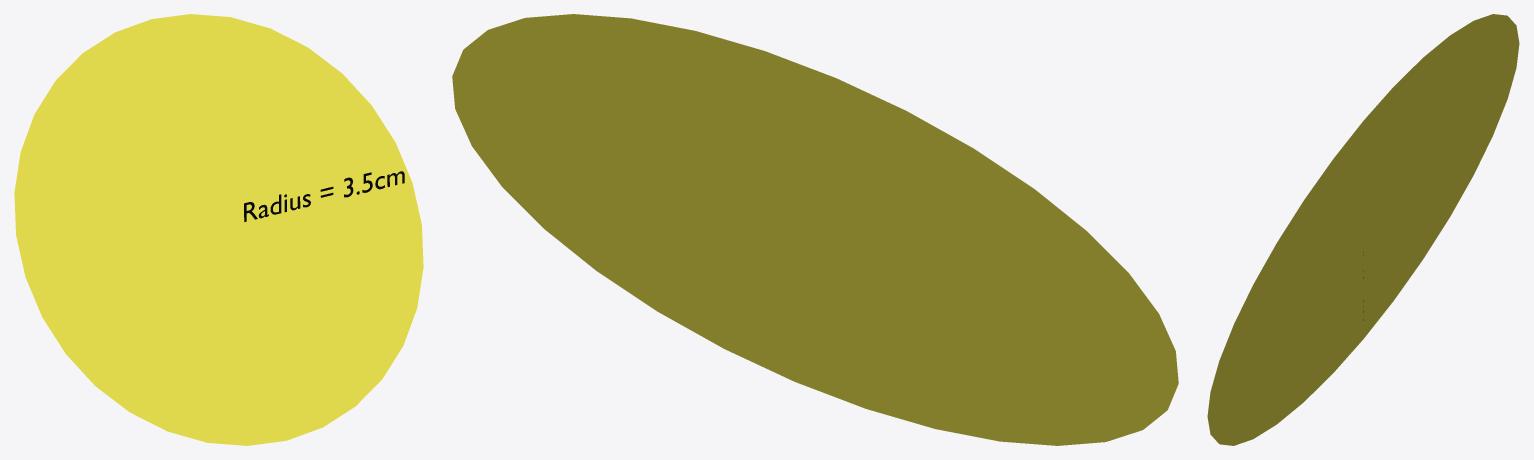
Rendered from circler3_5.glb.
3 views of the same model, side by side, from view 1: azimuth 30°, elevation 25°; view 2: azimuth 150°, elevation 25°; view 3: azimuth 270°, elevation 25° (orthographic). The views are drawn at different scales.
Parts seen in each view (by area): view 1: Sphere, Text; view 2: Sphere; view 3: Sphere.
Part boxes in pixels (x1,y1,x2,y2): Sphere: (14,14,423,445); Text: (244,171,404,221); Sphere: (452,14,1178,445); Sphere: (1207,14,1519,445).
Size of the model in its own units: 0.7 by 0.5581 by 0.4225.
